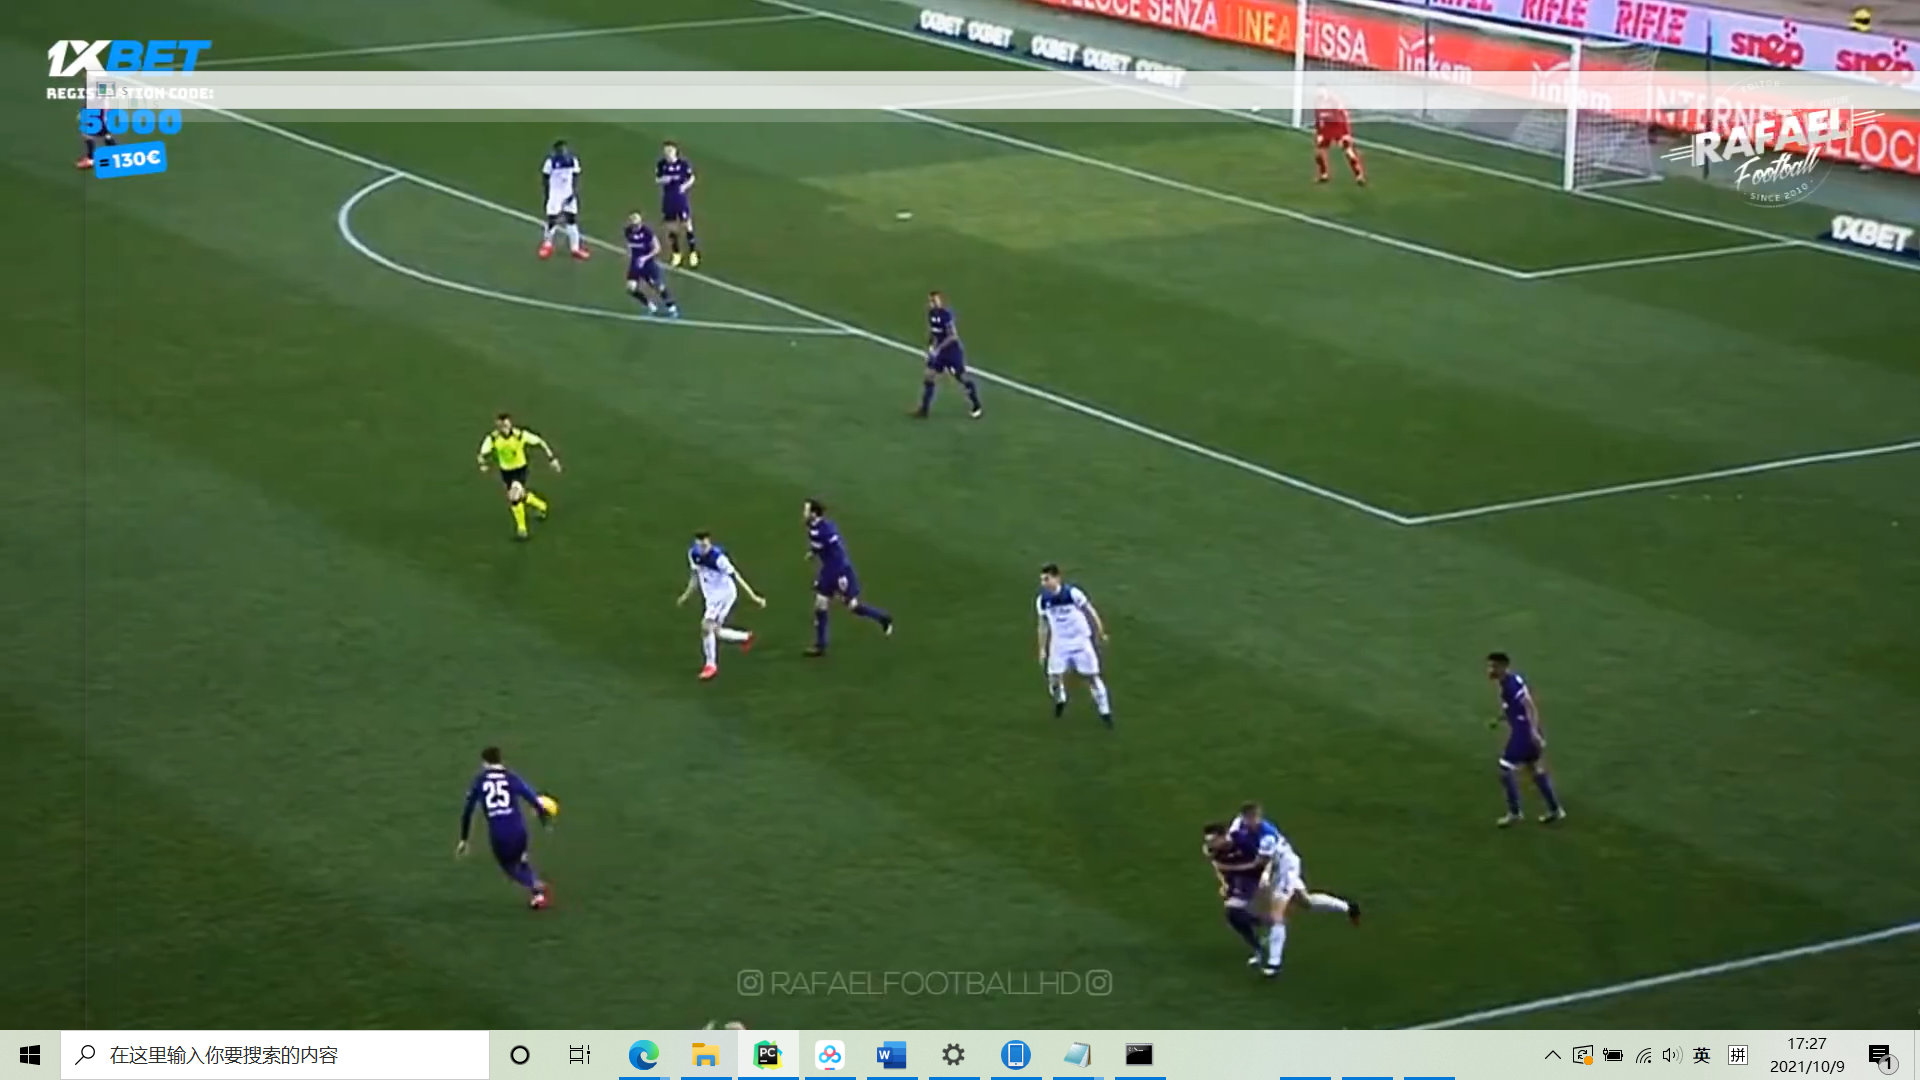ft: (531, 791, 559, 823)
